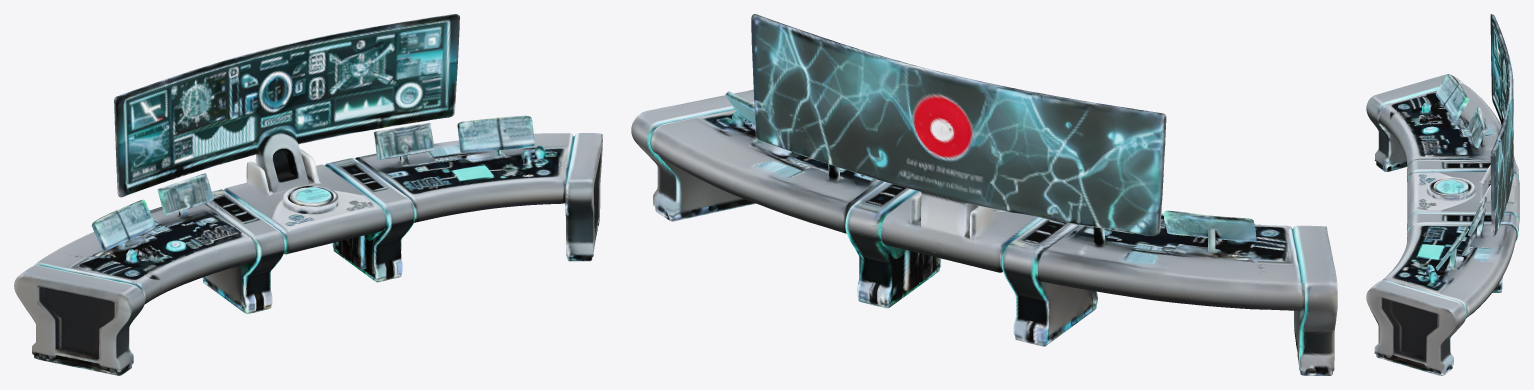
Rendered from base_basic_shaded.fbx.
3 renders of one model, left to right at view 1: azimuth 30°, elevation 25°; view 2: azimuth 150°, elevation 25°; view 3: azimuth 270°, elevation 25°, orthographic. The views are drawn at different scales.
Visible parts, largest first — view 1: model; view 2: model; view 3: model.
Boxes of the visible parts, x1,y1,x2,y2 form: model: [14, 14, 602, 375]; model: [631, 14, 1337, 375]; model: [1366, 14, 1519, 375].
Bounding box in the file's own units: 183 × 63.18 × 49.31.
